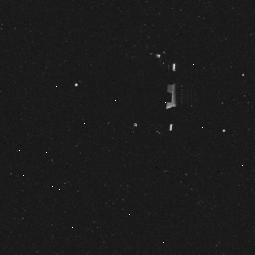proba_3_csc: (91, 30, 202, 146)
